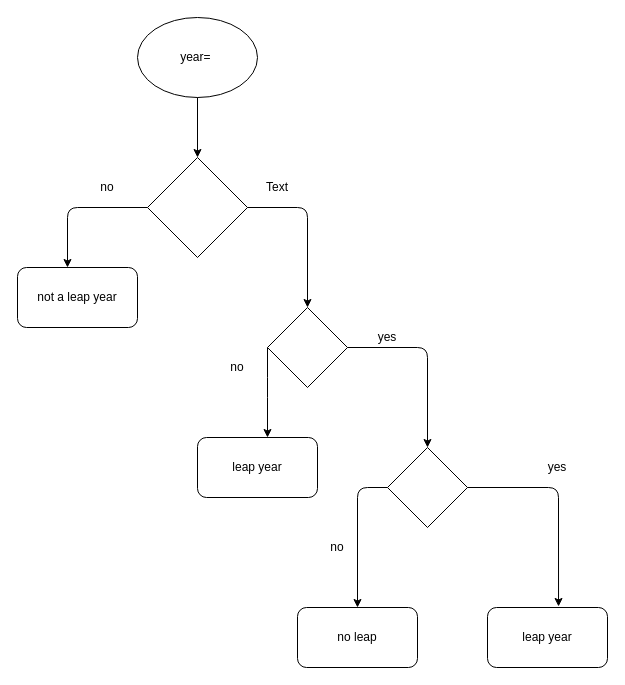
Some shapes in this 625 by 685 pixel diagram are drawn without their labels. The shapes that lost their labels are listed below. From the top down, each one's centre as x and y in pixels, then its label:
At (197,207): "year/4".
At (307,347): "year/100".
At (427,487): "year/5".
